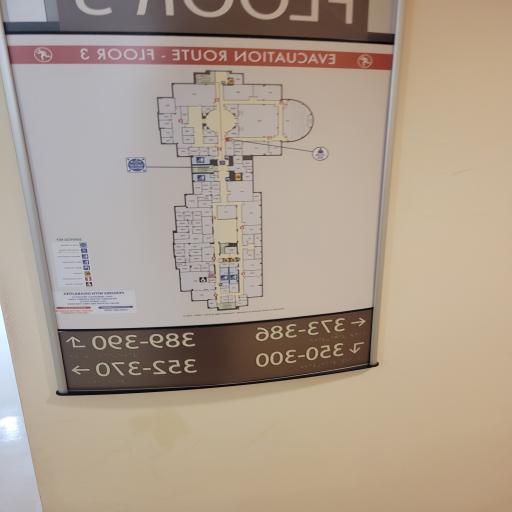floor layout map: (0, 0, 400, 379)
